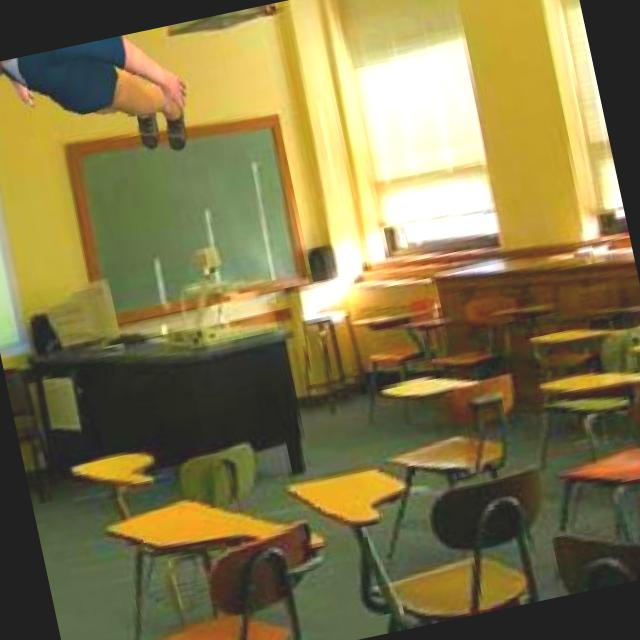Person: (0, 24, 198, 195)
